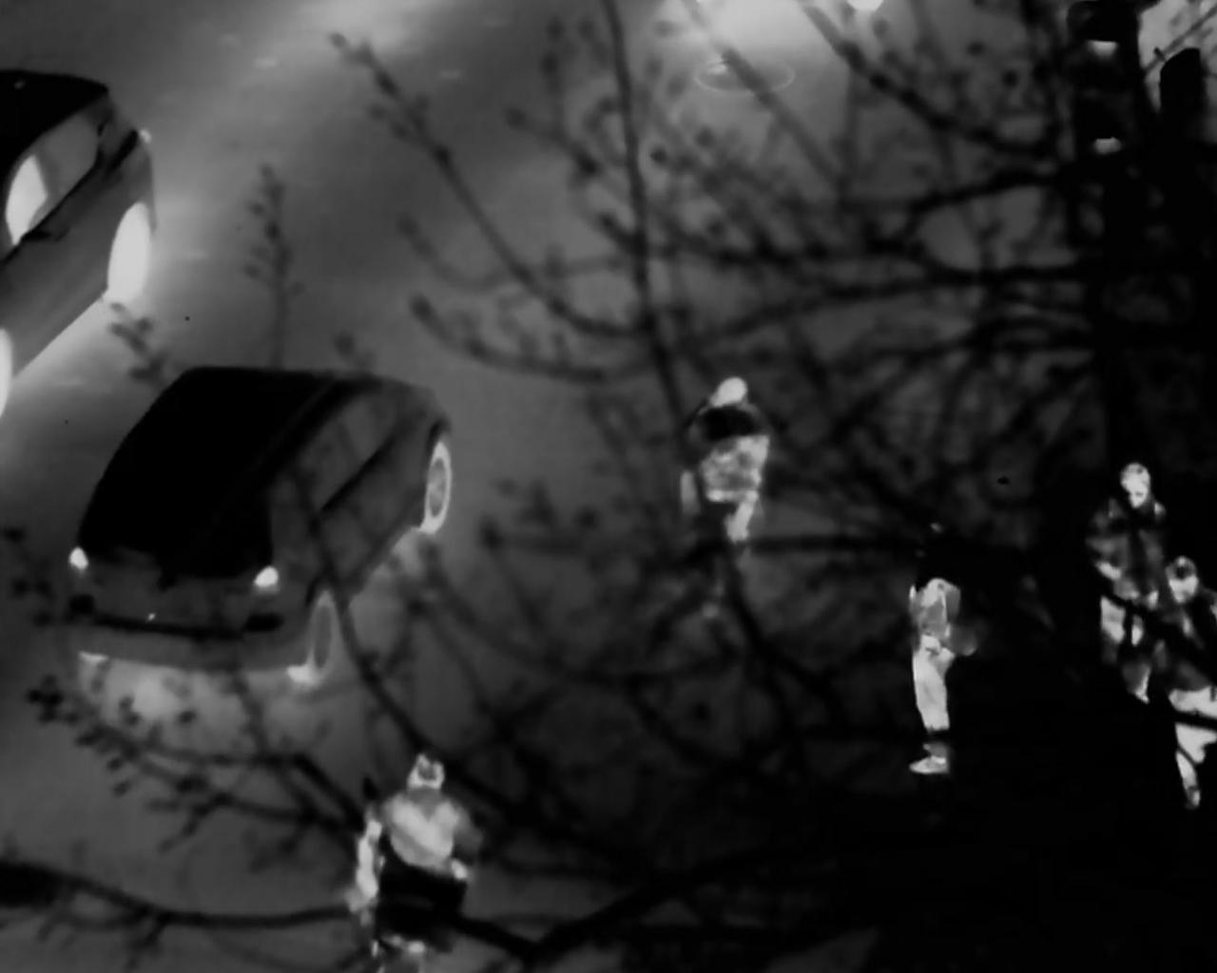person: (359, 753, 523, 968), (1094, 444, 1202, 698), (873, 567, 987, 783), (678, 375, 785, 552), (1145, 562, 1217, 779)
